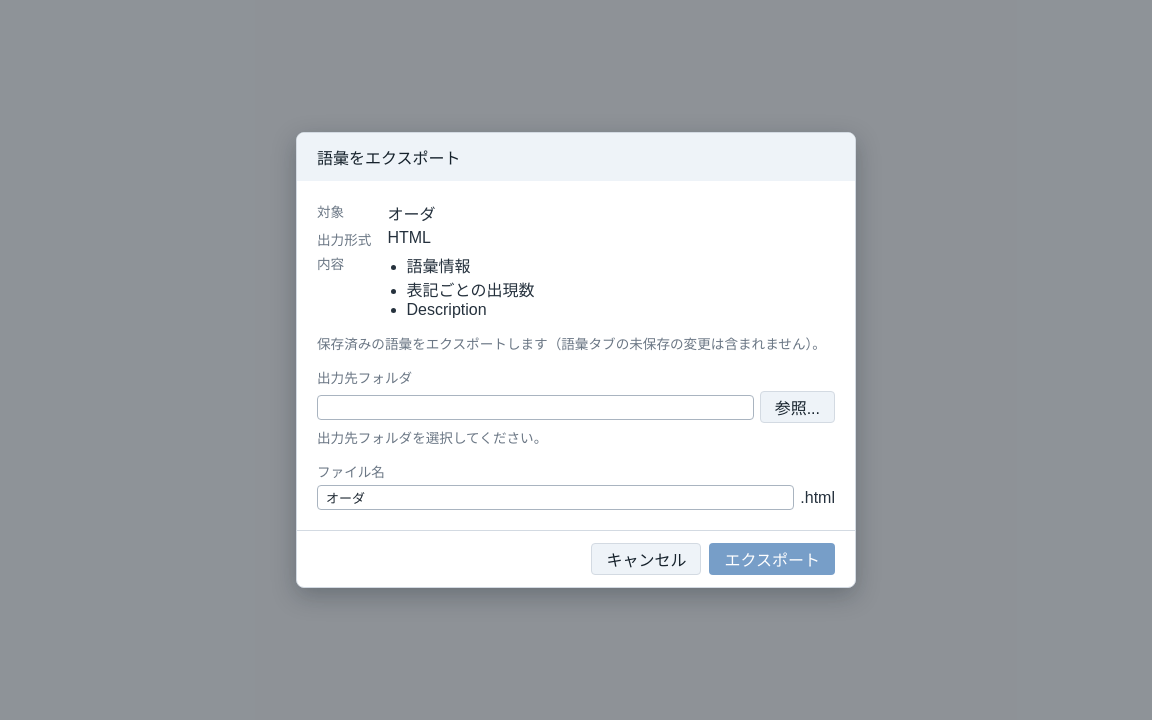
GlossaryExportDialog (#574 Slice 6) › reports a deleted entry
Click the button "参照...": (797, 407) x1=760 y1=391 x2=835 y2=423
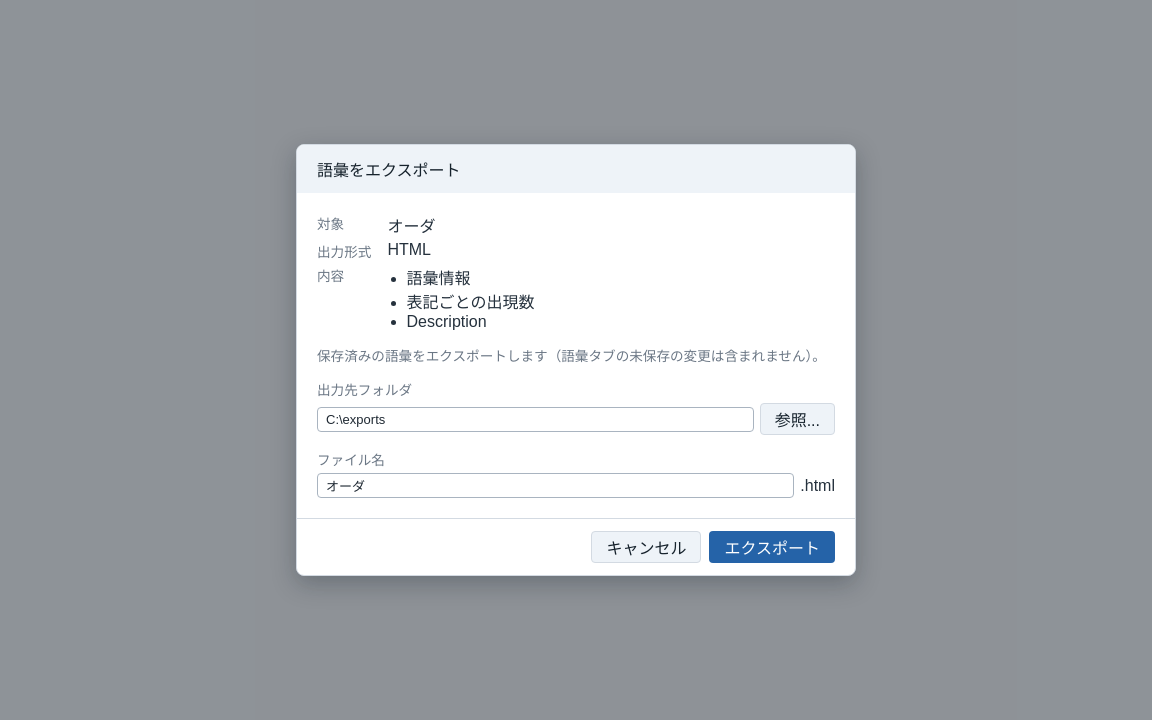
Click the button "エクスポート": (772, 547) x1=710 y1=531 x2=835 y2=563
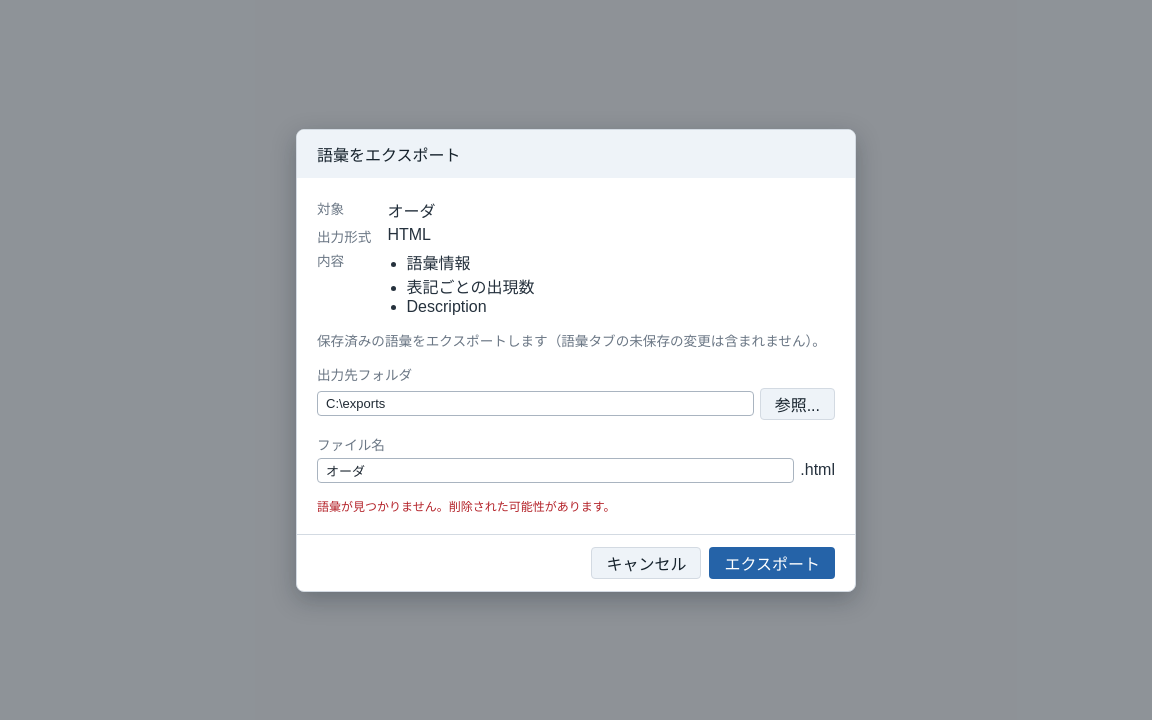
expect the message with class "glossaryExportError" reads "語彙が見つかりません。削除された可能性があります。": met, box x1=317 y1=500 x2=616 y2=514
